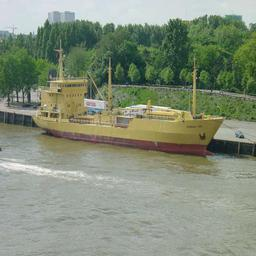Ship: (36, 70, 223, 159)
